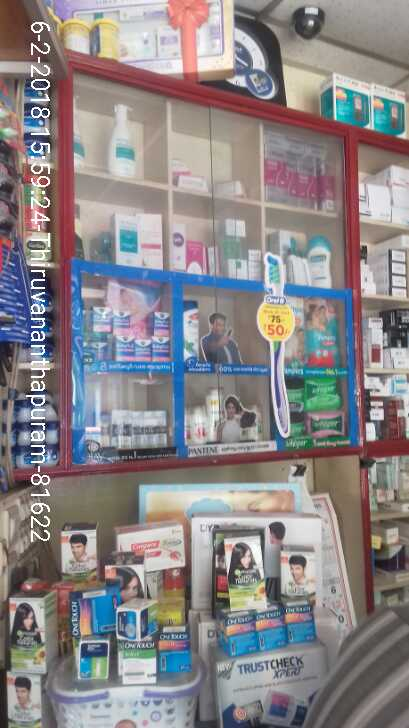vicks: (82, 302, 176, 375)
